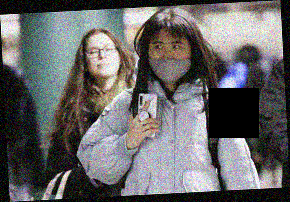with_mask: (147, 40, 193, 83)
without_mask: (84, 43, 120, 79)
